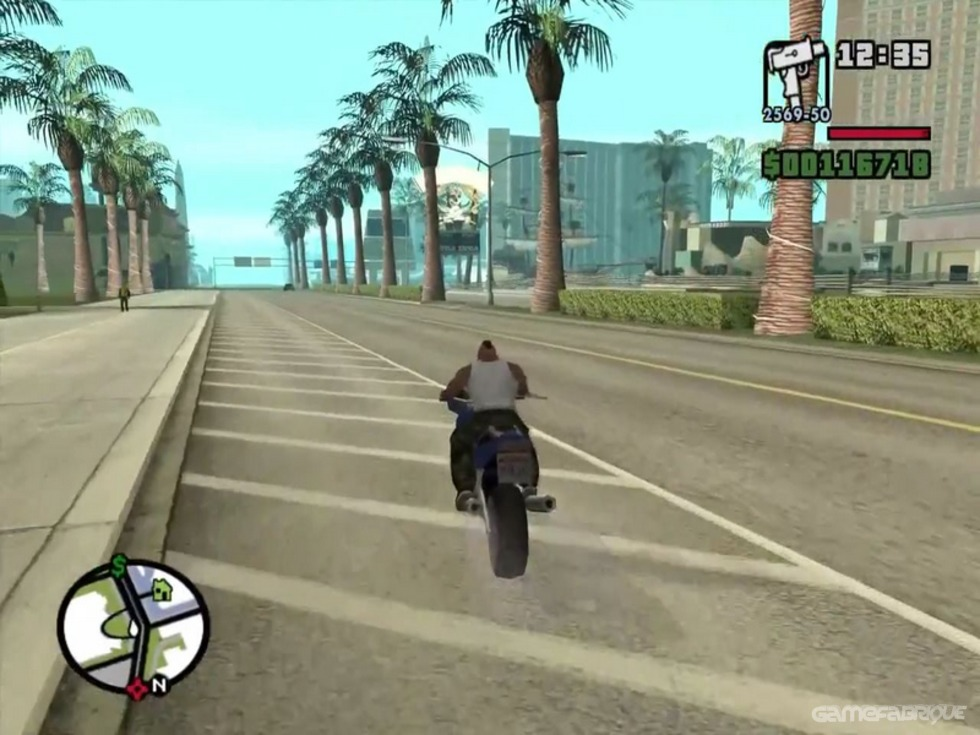bike: (443, 366, 564, 579)
